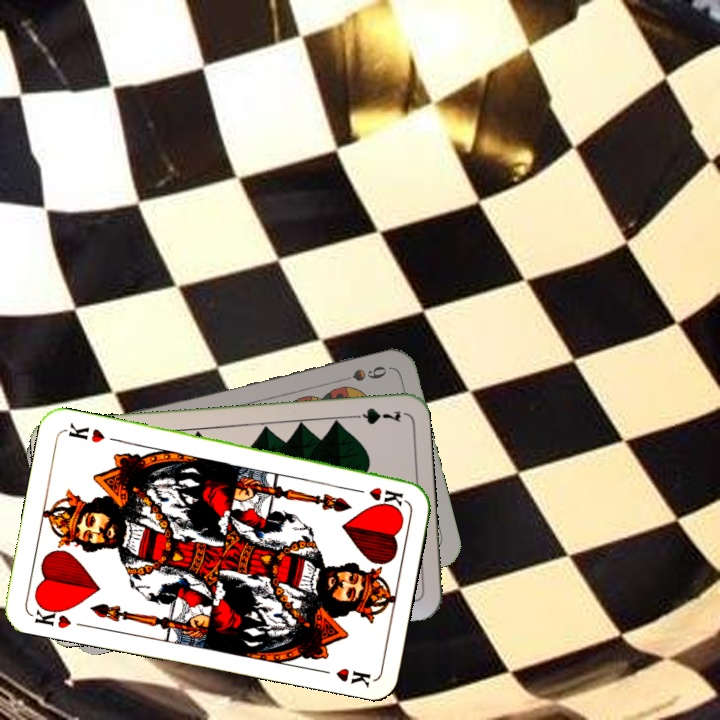G7: (344, 403, 403, 426)
HK: (28, 599, 74, 632), (347, 483, 406, 508)
S9: (332, 362, 389, 386)
